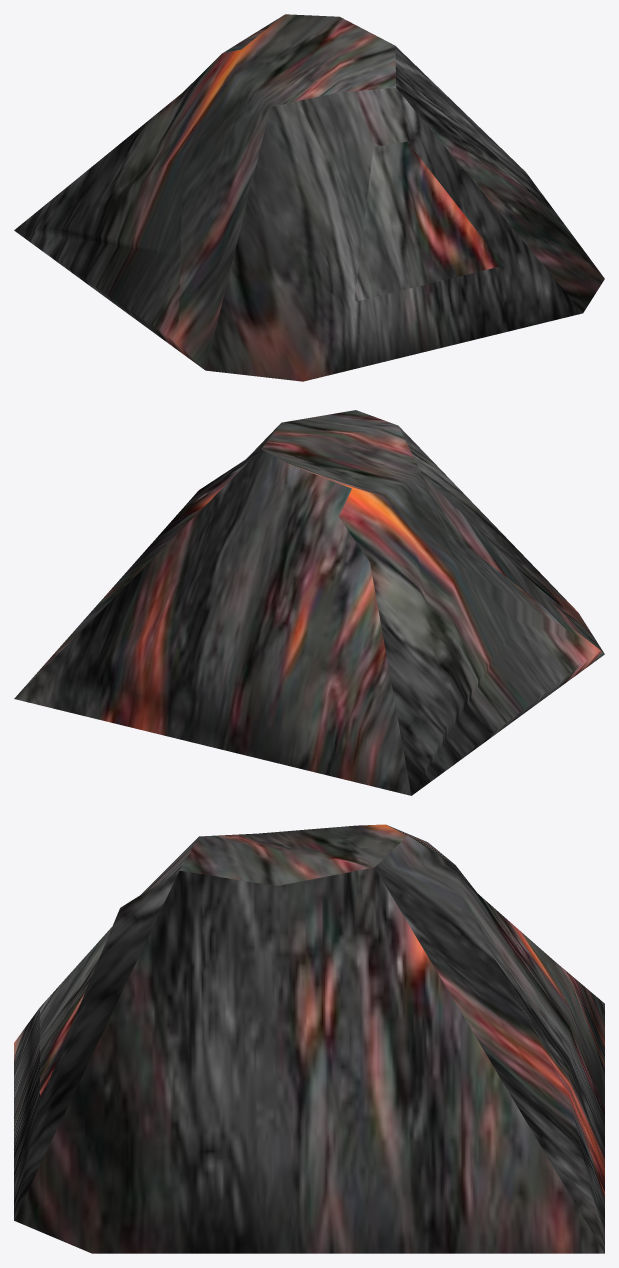
Rendered from Roca06.fbx.
The picture shows the model from 3 angles, top to bottom: view 1: azimuth 30°, elevation 25°; view 2: azimuth 150°, elevation 25°; view 3: azimuth 270°, elevation 25°; orthographic projection. The views are drawn at different scales.
Visible parts, largest first — view 1: Cube; view 2: Cube; view 3: Cube.
Part boxes in pixels (<box>): Cube: <box>14,14,604,381</box>; Cube: <box>14,410,604,795</box>; Cube: <box>14,824,604,1253</box>.
Size of the model in its own units: 206 by 109 by 200.
